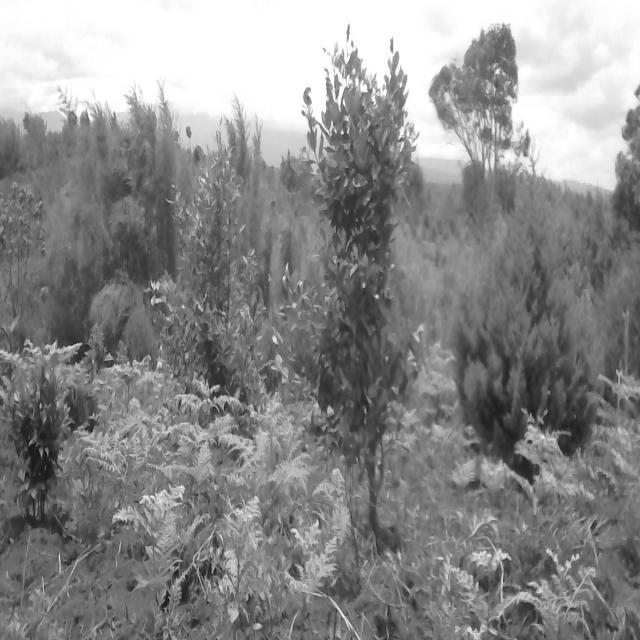Juniperus procesera: (450, 176, 600, 452)
Syzygium guinesis: (309, 23, 419, 553)
